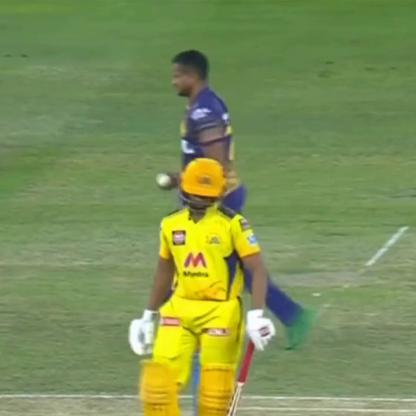ball: (152, 165, 173, 189)
